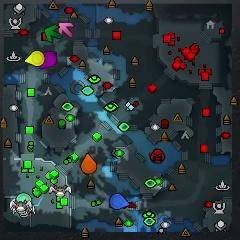p1: (110, 193, 130, 209)
p2: (16, 193, 32, 203)
p3: (40, 51, 57, 70)
p4: (24, 51, 44, 66)
p5: (81, 154, 97, 174)
x1: (58, 22, 73, 37)
x4: (44, 25, 61, 42)
